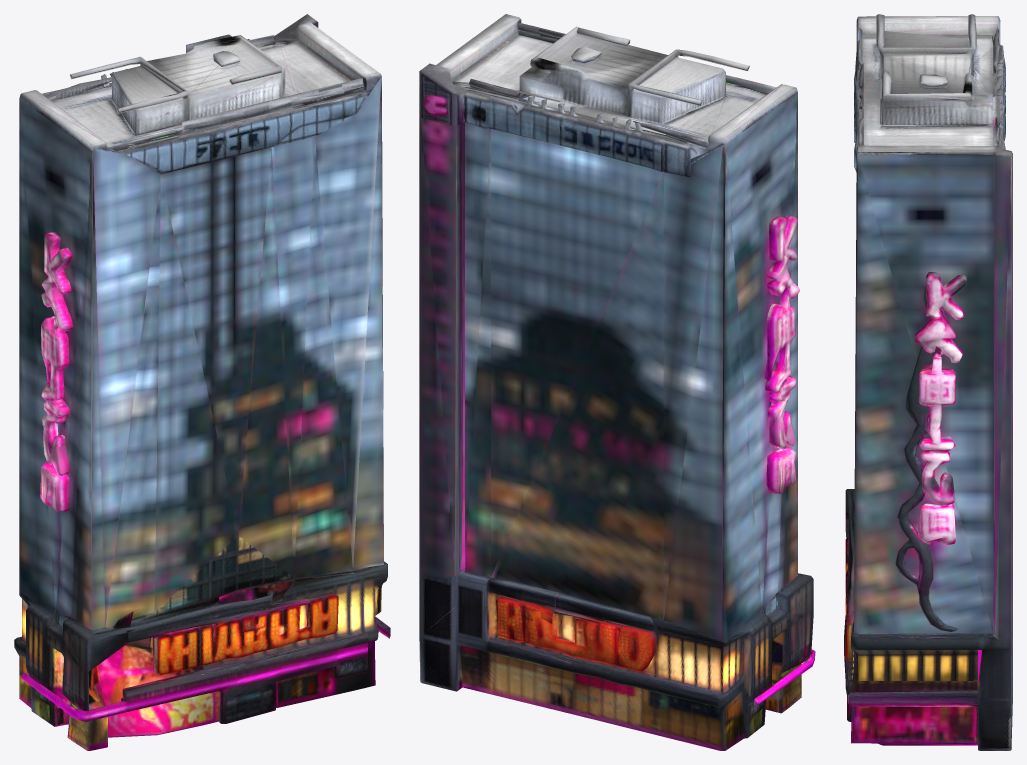
The model's file is shopping_3.glb.
3 renders of one model, left to right at view 1: azimuth 30°, elevation 25°; view 2: azimuth 150°, elevation 25°; view 3: azimuth 270°, elevation 25°, orthographic. The views are drawn at different scales.
Size of the model in its own units: 1.03 by 1.91 by 0.4736.
Materials: 1 (1 with a texture image).
